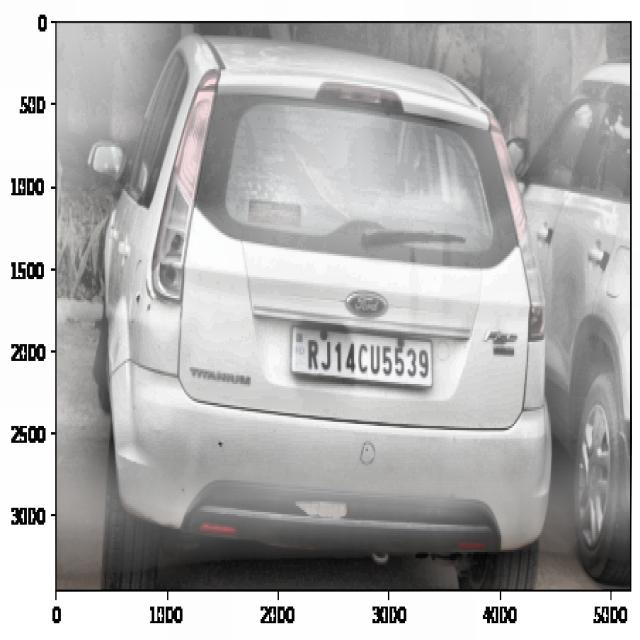license_plate: (298, 326, 434, 388)
